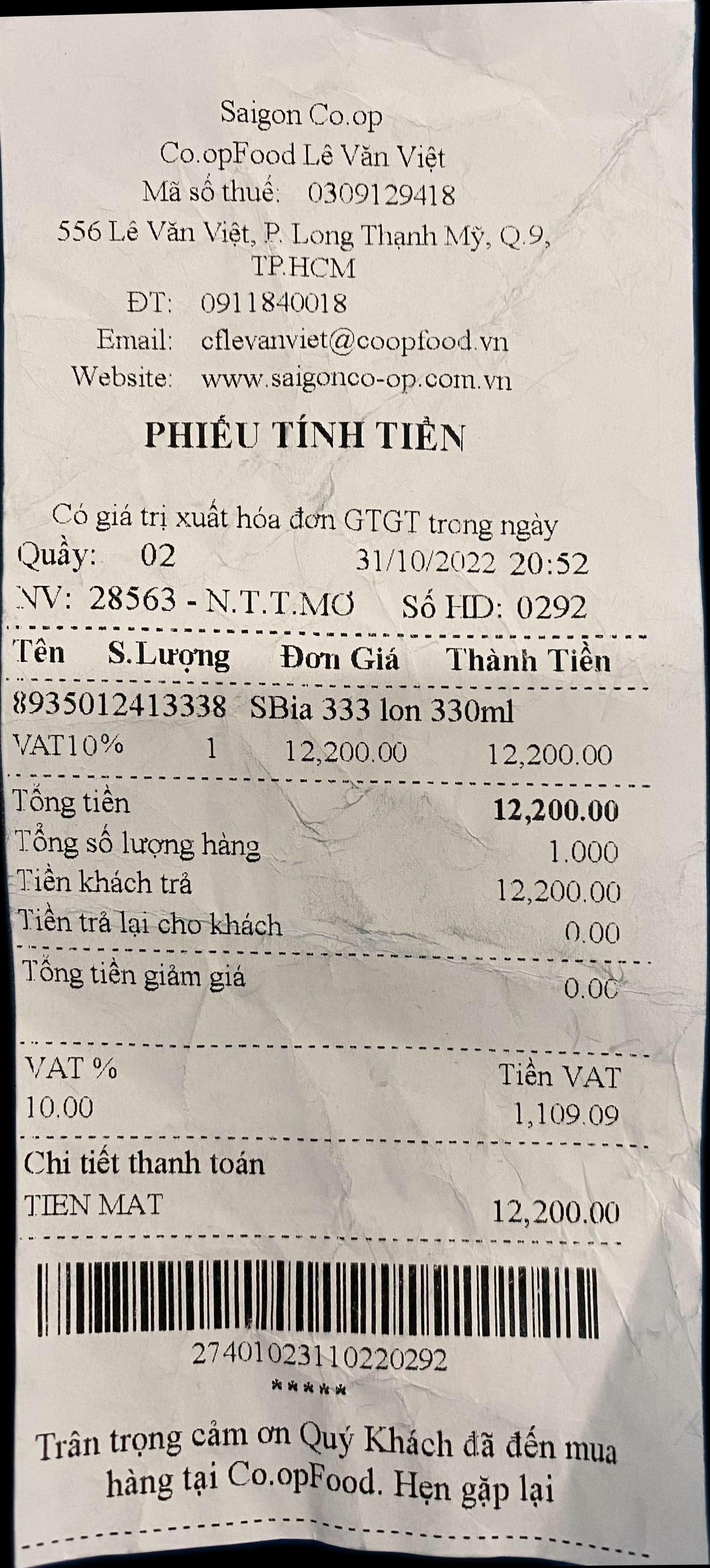Date: (337, 537, 500, 583)
Store_Name: (187, 85, 425, 132)
Total_Amount: (0, 774, 668, 832)
